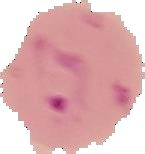parasitized: (6, 7, 142, 153), (27, 45, 98, 119)
